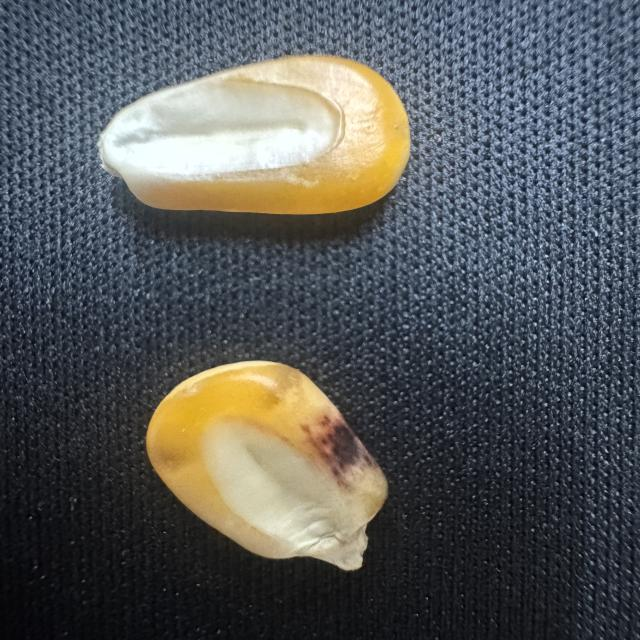Bad-Seed: (139, 355, 397, 579)
Good-Seed: (91, 50, 421, 223)
